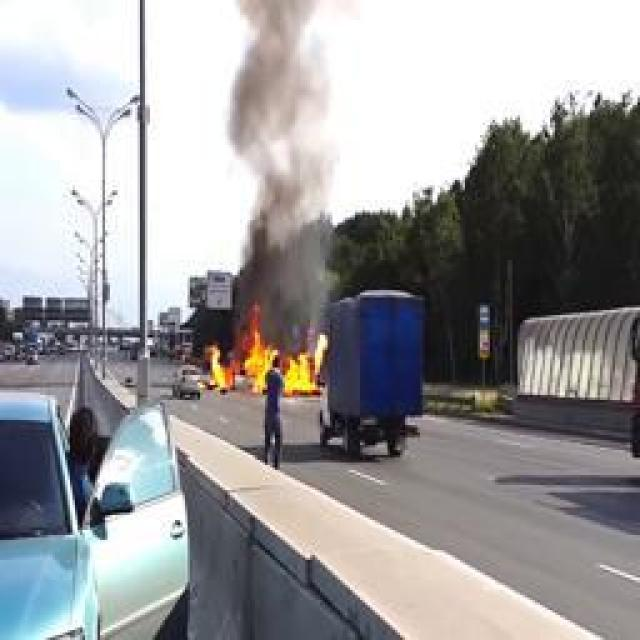Fire: (211, 306, 329, 394)
